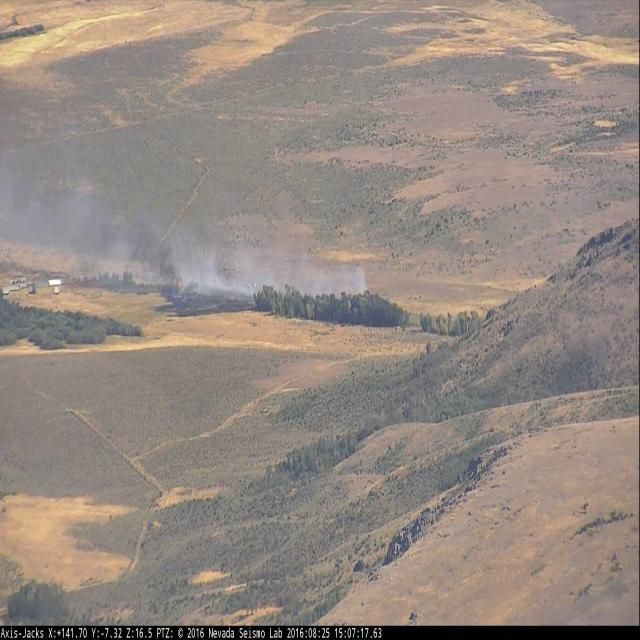smoke: (0, 171, 371, 305)
